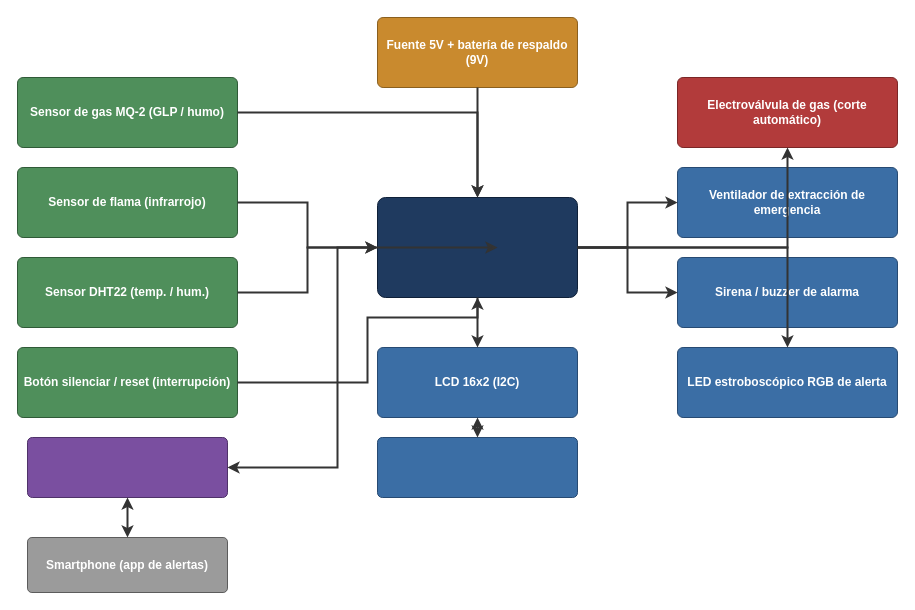
Some shapes in this 915 by 610 pixel diagram are drawn without their labels. Each missing label, with the centre of its shape:
"Microcontrolador (Arduino Mega 2560)" goes at point 477,247.
"Módulo Bluetooth HC-05 (UART)" goes at point 127,467.
"RTC DS3231 (I2C) registro de eventos" goes at point 477,467.
